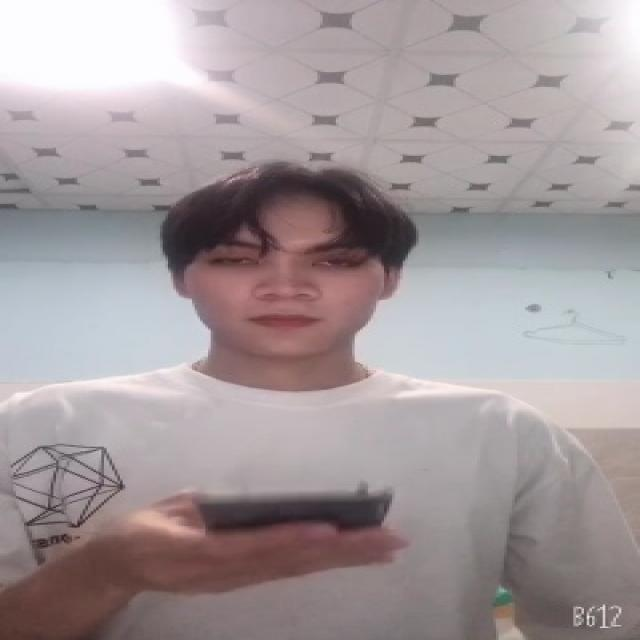Phone: (193, 483, 397, 539)
